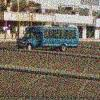buses: (16, 24, 80, 53)
